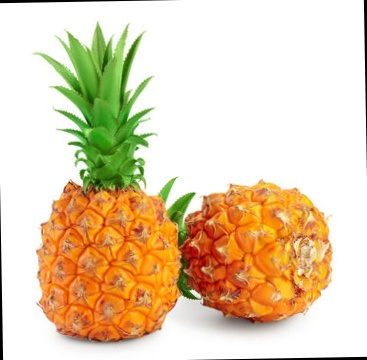Pineapple: (27, 18, 186, 344)
